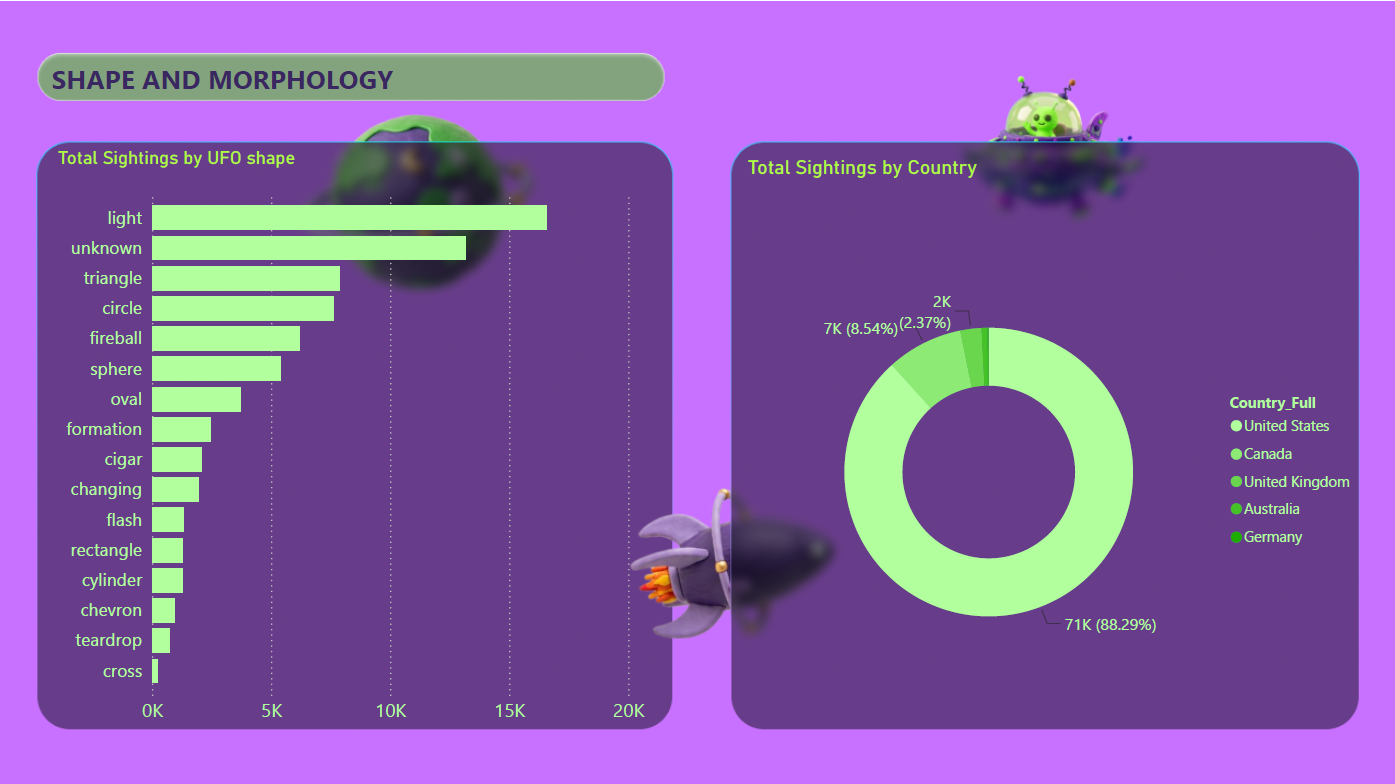

What the dashboard file says about the page in this screenshot:
{"tool":"powerbi","page":{"name":"Page 3","canvas":[1280,720],"ordinal":2},"visuals":[{"type":"clusteredBarChart","title":"Total Sightings by UFO shape","fields":{"Category":["powerbi_ufo_sightings_final.UFO_shape"],"Y":["powerbi_ufo_sightings_final.Total Sightings"]},"box":[50,133.3,546.7,537.8],"z":0},{"type":"donutChart","title":"Total Sightings by Country","fields":{"Category":["powerbi_ufo_sightings_final.Country_Full"],"Y":["powerbi_ufo_sightings_final.Total Sightings"]},"box":[681.1,141.1,570,546.6],"z":1000},{"type":"textbox","box":[26.7,48.9,356.7,70],"z":1001}]}

Visuals, with their boxes in screenshot pixels (x1, y1, x2, y2), scaled from the page's 1280x720 canvas onto the 1395x784 screenshot:
"Total Sightings by UFO shape" clusteredBarChart: [left=54, top=145, right=650, bottom=731]
"Total Sightings by Country" donutChart: [left=742, top=154, right=1364, bottom=749]
textbox: [left=29, top=53, right=418, bottom=129]
